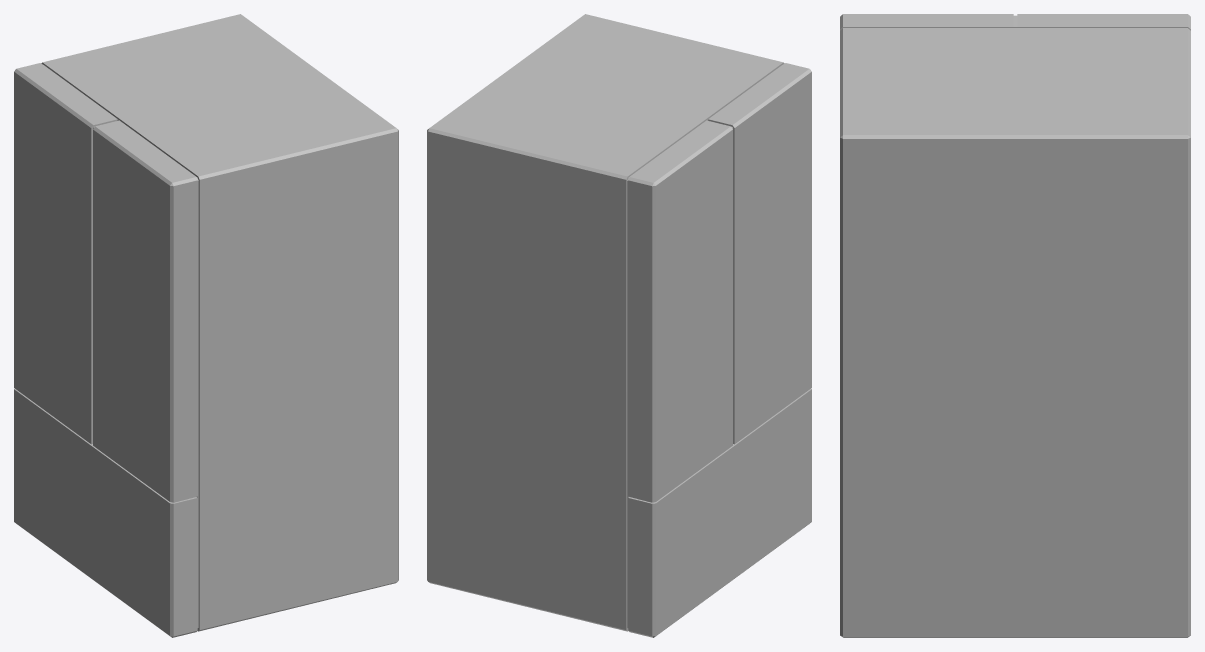
The model's file is Refrigerator.fbx.
The picture shows the model from 3 angles, left to right: view 1: azimuth 30°, elevation 25°; view 2: azimuth 150°, elevation 25°; view 3: azimuth 270°, elevation 25°; orthographic projection. The views are drawn at different scales.
Parts seen in each view (by area): view 1: Object003; view 2: Object003; view 3: Object003.
Part boxes in pixels (left/top/right/bottom): Object003: left=14, top=14, right=398, bottom=637; Object003: left=427, top=14, right=811, bottom=637; Object003: left=840, top=14, right=1190, bottom=637.
Size of the model in its own units: 100 by 190 by 120.
Materials: 1 (1 with a texture image).
